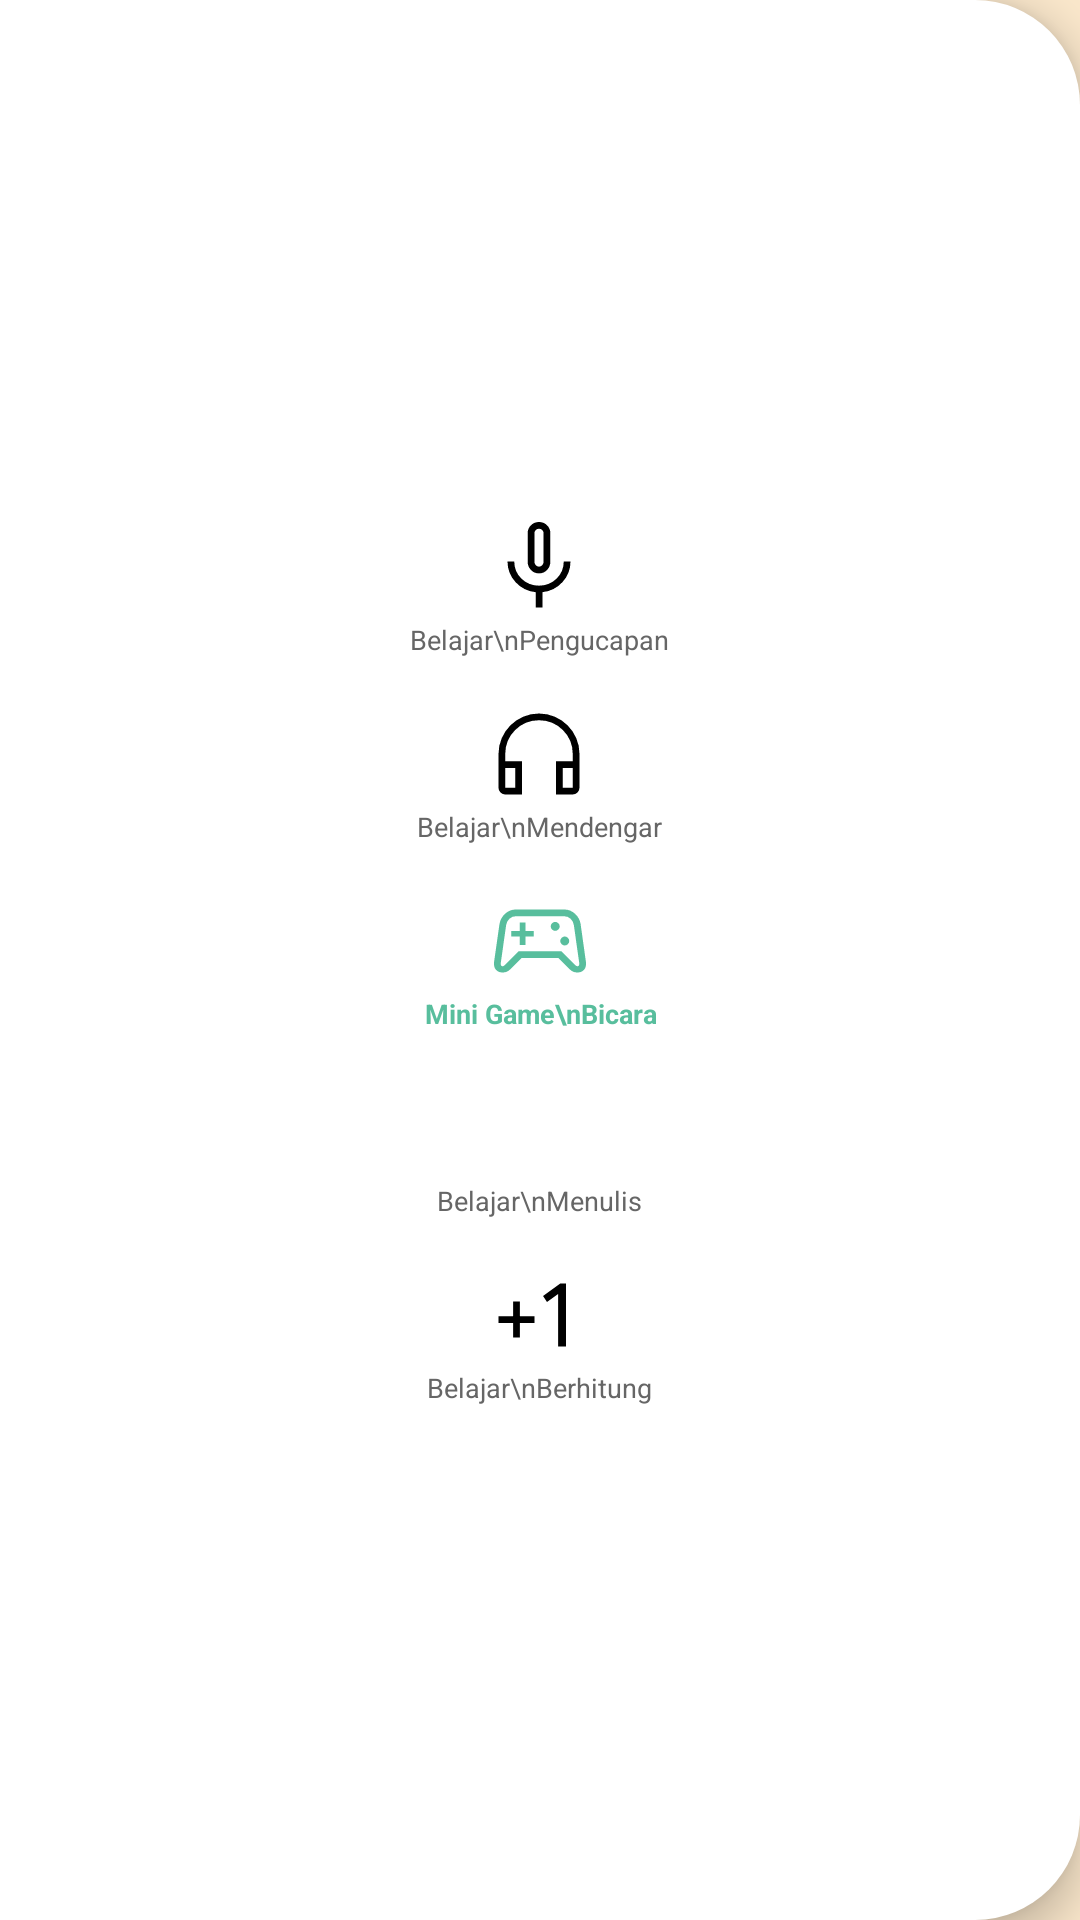

Icons on this 1080 x 1920 Android screen, each with its box as detection(x1, y1, x2, y2):
headset: detection(498, 713, 580, 795)
mic: detection(507, 522, 571, 608)
